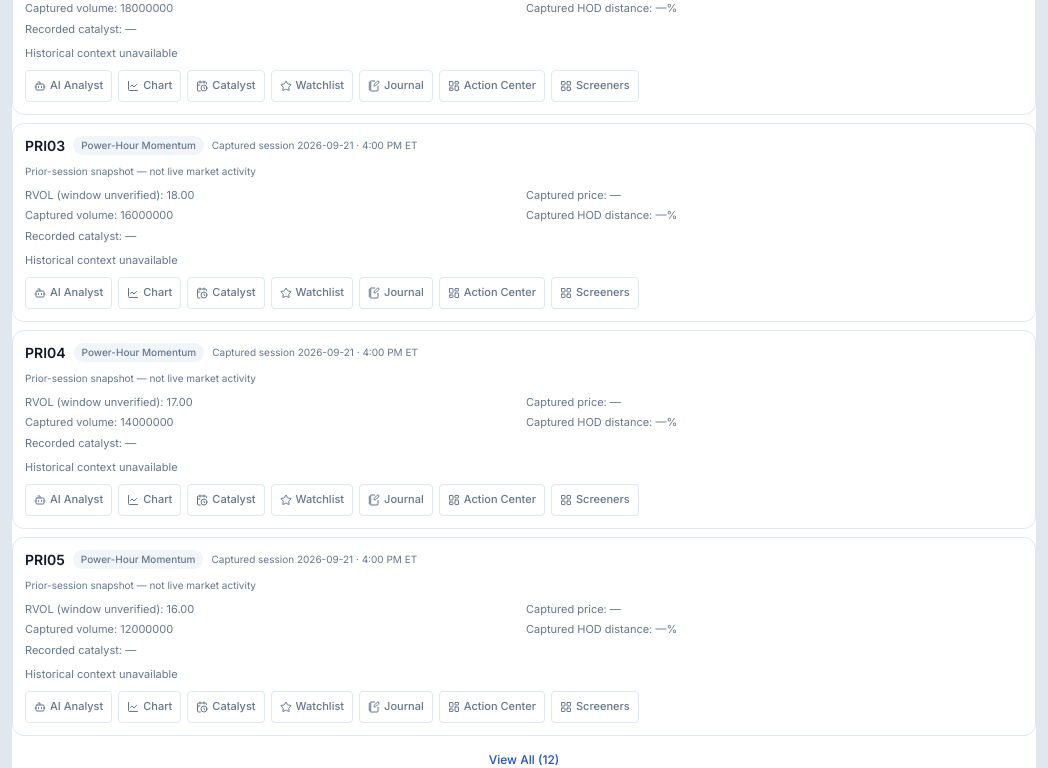
Test: LateSessionHandoffsList › caps default cards to priority names and View All exposes qualified pool
(page scrolled)
Click the button "View All (12)".
click(524, 760)  # box [12,752,1036,767]
(page scrolled)
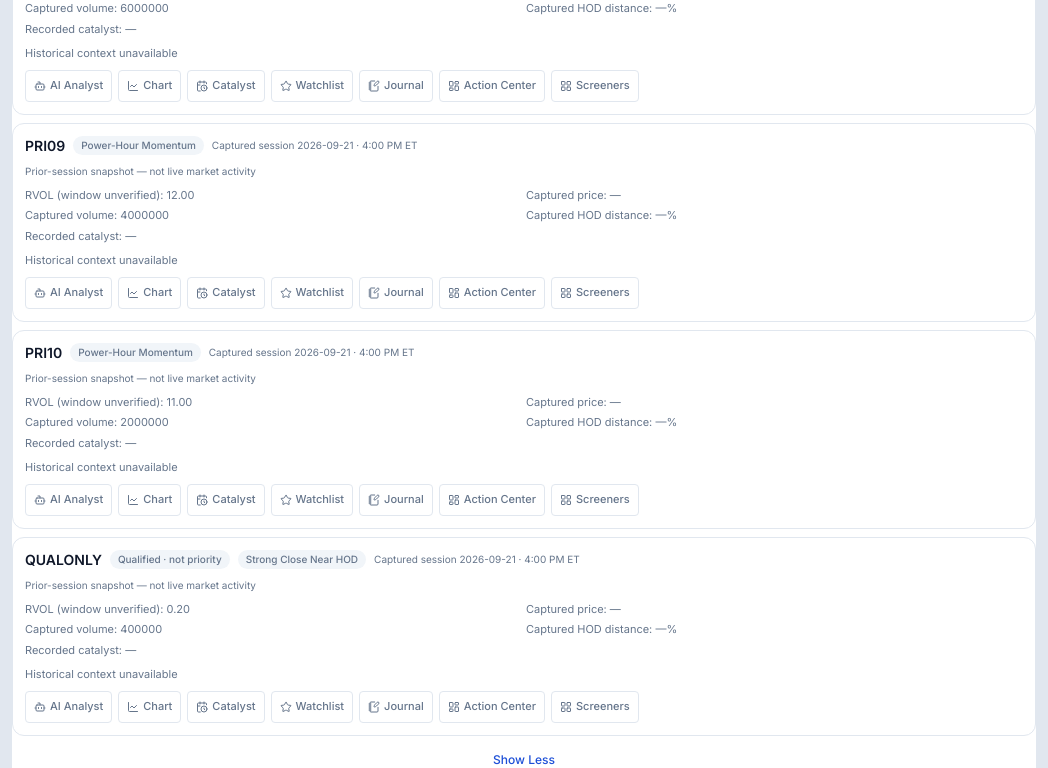
Now the text "QUALONLY" is shown, box [25,550,102,570]
Now the text "Qualified · not priority" is shown, box [110,550,230,569]
